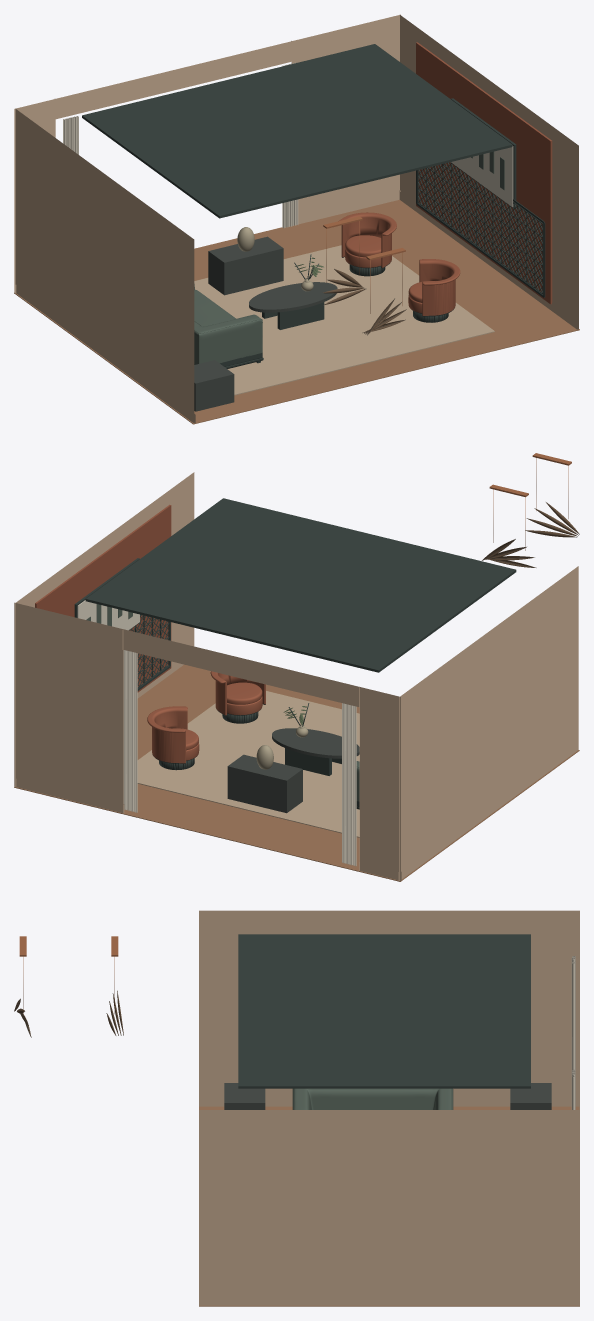
Rendered from great-3.glb.
3 renders of one model, top to bottom at view 1: azimuth 30°, elevation 25°; view 2: azimuth 150°, elevation 25°; view 3: azimuth 270°, elevation 25°, orthographic. The views are drawn at different scales.
Parts seen in each view (by area): view 1: DESIGN | great removable wall finish, DESIGN | Social ceiling field, DESIGN | great floor finish, DESIGN | Great room primary ground, DESIGN | Clay conversation wall, DESIGN | Kumiko | Great room low craft datum, DESIGN | Great room sofa facing conversation, DESIGN | Object discussion plinth, DESIGN | Required Bellustar swivel chair two, DESIGN | Required Bellustar swivel chair one, DESIGN | Great room conversation table top, DESIGN | Great room low stone display (+3 smaller); view 2: DESIGN | great removable wall finish, DESIGN | Social ceiling field, DESIGN | great floor finish, DESIGN | Great room primary ground, DESIGN | Clay conversation wall, DESIGN | Object discussion plinth, DESIGN | Required Bellustar swivel chair two, DESIGN | Great room soft window edge, DESIGN | Great room soft window edge.001, DESIGN | Required Bellustar swivel chair one, DESIGN | Great room conversation table top, DESIGN | Kumiko | Great room low craft datum (+4 smaller); view 3: DESIGN | great removable wall finish, DESIGN | Social ceiling field, DESIGN | Great room sofa facing conversation, DESIGN | great floor finish, DESIGN | Great room low stone display.001, DESIGN | Great room low stone display, DESIGN | Great room soft window edge.
Part boxes in pixels (<box>): DESIGN | great removable wall finish: <box>14,14,578,423</box>; DESIGN | Social ceiling field: <box>82,44,512,218</box>; DESIGN | great floor finish: <box>14,200,579,424</box>; DESIGN | Great room primary ground: <box>194,245,494,395</box>; DESIGN | Clay conversation wall: <box>416,42,552,304</box>; DESIGN | Kumiko | Great room low craft datum: <box>416,162,545,297</box>; DESIGN | Great room sofa facing conversation: <box>194,284,263,368</box>; DESIGN | Object discussion plinth: <box>208,236,283,295</box>; DESIGN | Required Bellustar swivel chair two: <box>338,212,396,276</box>; DESIGN | Required Bellustar swivel chair one: <box>408,259,460,322</box>; DESIGN | Great room conversation table top: <box>249,282,337,312</box>; DESIGN | Great room low stone display: <box>194,360,234,411</box>; DESIGN | great removable wall finish: <box>14,472,578,880</box>; DESIGN | Social ceiling field: <box>85,498,516,672</box>; DESIGN | great floor finish: <box>14,664,579,881</box>; DESIGN | Great room primary ground: <box>137,691,359,837</box>; DESIGN | Clay conversation wall: <box>35,504,171,692</box>; DESIGN | Object discussion plinth: <box>227,754,302,813</box>; DESIGN | Required Bellustar swivel chair two: <box>147,706,199,770</box>; DESIGN | Great room soft window edge: <box>342,703,356,866</box>; DESIGN | Great room soft window edge.001: <box>123,650,137,812</box>; DESIGN | Required Bellustar swivel chair one: <box>210,671,265,723</box>; DESIGN | Great room conversation table top: <box>272,728,359,758</box>; DESIGN | Kumiko | Great room low craft datum: <box>130,614,170,690</box>; DESIGN | great removable wall finish: <box>199,910,579,1305</box>; DESIGN | Social ceiling field: <box>238,934,530,1088</box>; DESIGN | Great room sofa facing conversation: <box>292,1088,453,1109</box>; DESIGN | great floor finish: <box>199,1106,579,1306</box>; DESIGN | Great room low stone display.001: <box>510,1083,551,1109</box>; DESIGN | Great room low stone display: <box>224,1083,265,1109</box>; DESIGN | Great room soft window edge: <box>571,956,575,1070</box>.
Size of the model in its own units: 6 by 3.04 by 7.16.
